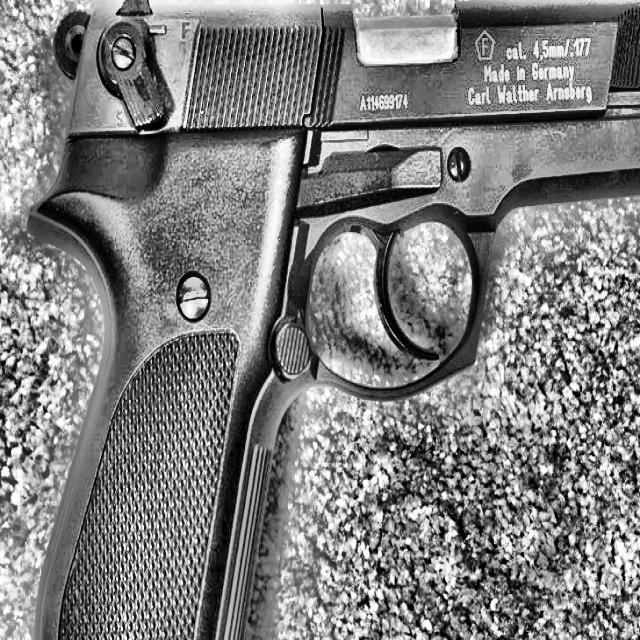Walther: (24, 0, 640, 640)
